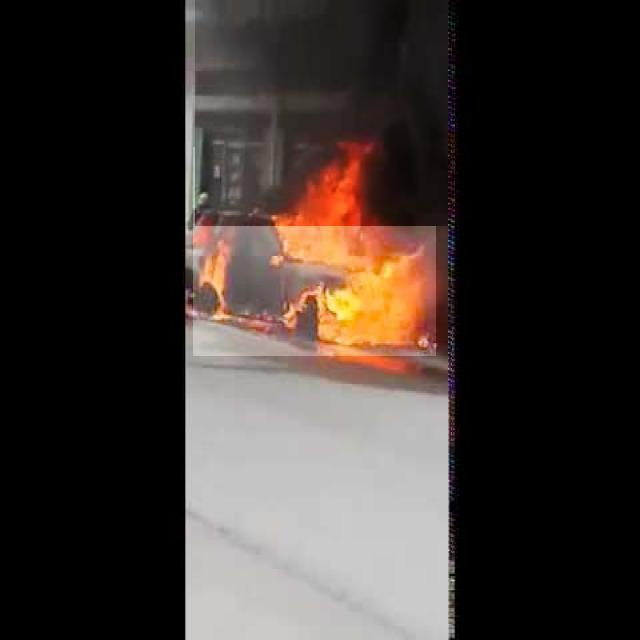Fire: (193, 147, 436, 356)
Smoke: (195, 0, 454, 226)
